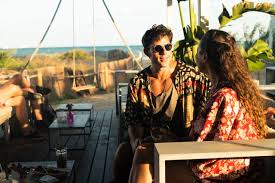person: (191, 34, 254, 121), (130, 25, 199, 96)
